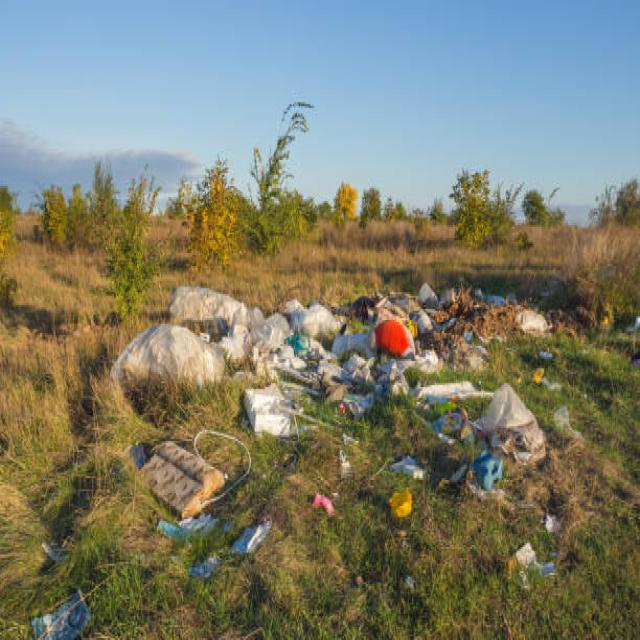plastic: (196, 320, 414, 380)
